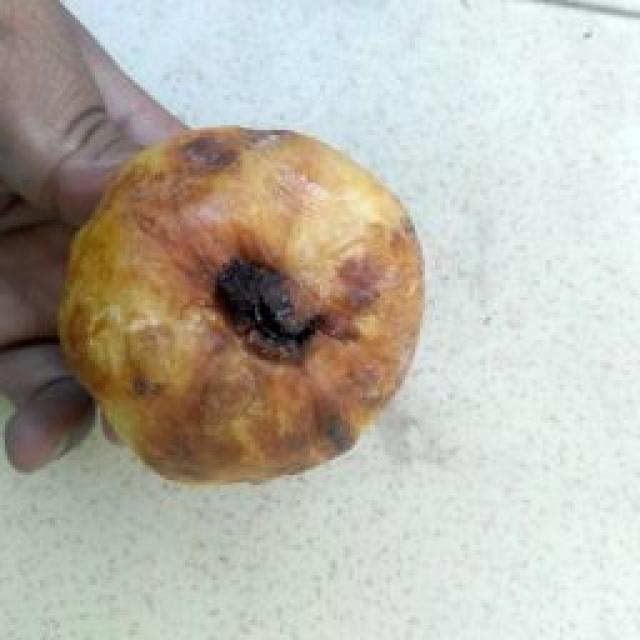Organik: (65, 116, 424, 500)
